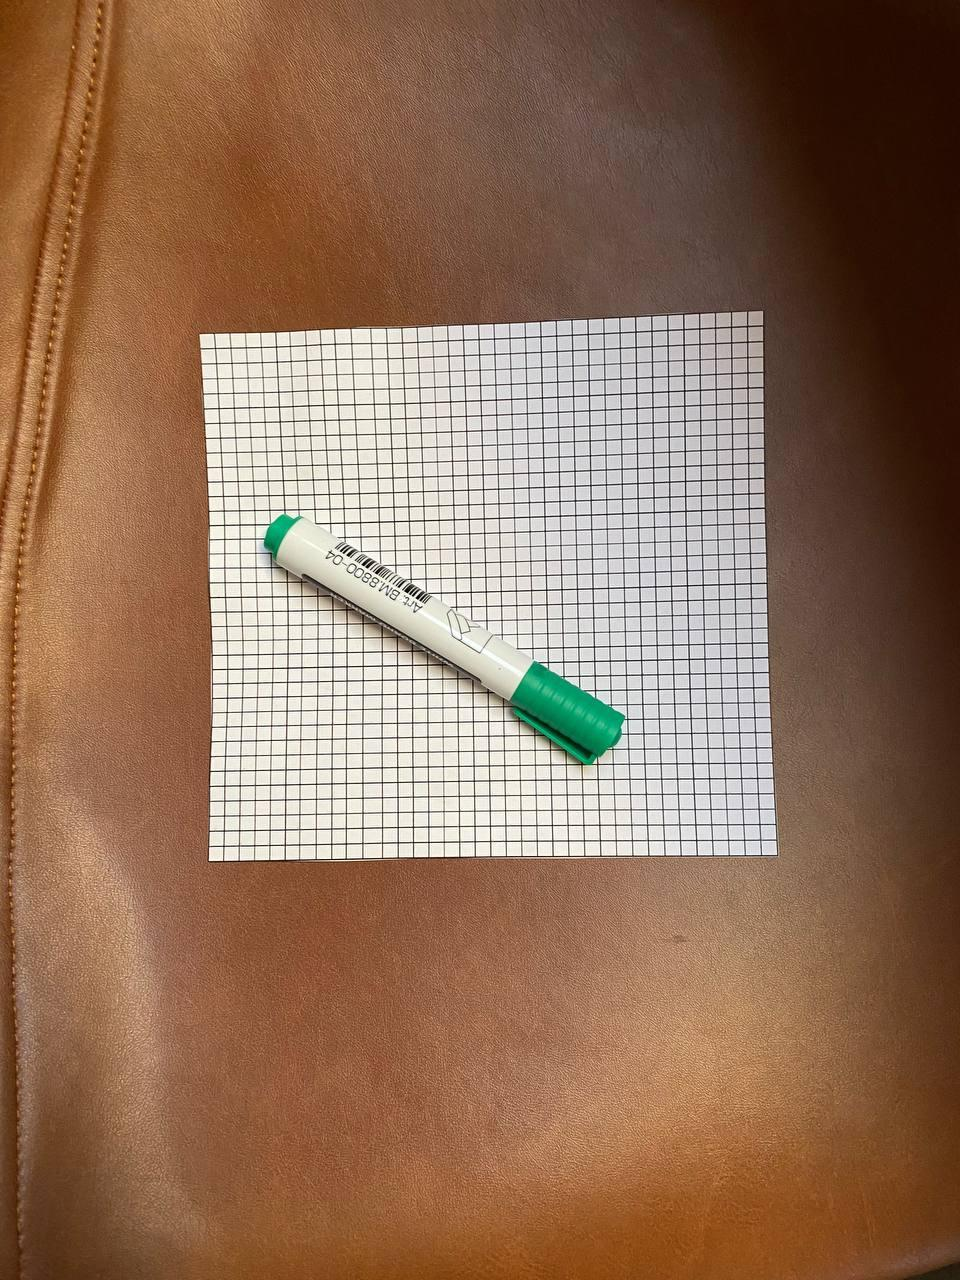grid: (174, 301, 784, 876)
